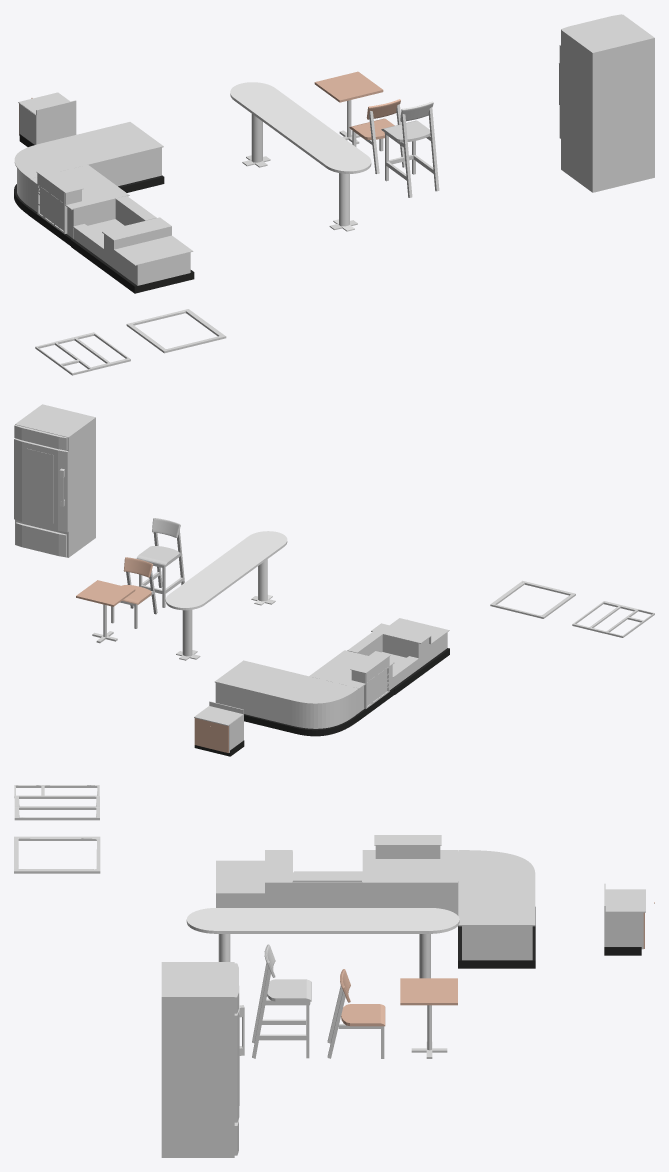
File: muse 1.fbx
3 renders of one model, top to bottom at view 1: azimuth 30°, elevation 25°; view 2: azimuth 150°, elevation 25°; view 3: azimuth 270°, elevation 25°, orthographic. The views are drawn at different scales.
Parts seen in each view (by area): view 1: Cube.013, Cube.032, Cube.016, Cube.021, Cube.015, Cube.052, Cube.022, Cube.043, Cube.053, Cube.007, Cube.019, Cube.005 (+11 smaller); view 2: Cube.013, Cube.032, Cube.016, Cube.015, Cube.018, Cube.022, Cube.019, Cube.007, Cube.028, Cube.021, Cube.037, Cube.005 (+6 smaller); view 3: Cube.013, Cube.032, Cube.016, Cube.022, Cube.015, Cube.021, Cube.049, Cube.019, Cube.053, Cube.007, Cube.043, Cube.037 (+14 smaller).
Part boxes in pixels (x1=…): Cube.013: x1=559, y1=14, x2=654, y2=192; Cube.032: x1=230, y1=82, x2=371, y2=173; Cube.016: x1=43, y1=122, x2=163, y2=167; Cube.021: x1=30, y1=181, x2=115, y2=238; Cube.015: x1=89, y1=147, x2=161, y2=186; Cube.052: x1=116, y1=252, x2=190, y2=285; Cube.022: x1=30, y1=165, x2=129, y2=209; Cube.043: x1=19, y1=103, x2=76, y2=144; Cube.053: x1=114, y1=235, x2=193, y2=265; Cube.007: x1=314, y1=71, x2=383, y2=102; Cube.019: x1=14, y1=143, x2=76, y2=179; Cube.005: x1=384, y1=107, x2=439, y2=197; Cube.013: x1=14, y1=404, x2=95, y2=557; Cube.032: x1=165, y1=531, x2=287, y2=610; Cube.016: x1=214, y1=660, x2=318, y2=700; Cube.015: x1=215, y1=683, x2=291, y2=725; Cube.018: x1=289, y1=692, x2=355, y2=728; Cube.022: x1=309, y1=650, x2=394, y2=688; Cube.019: x1=290, y1=679, x2=358, y2=704; Cube.007: x1=76, y1=580, x2=135, y2=606; Cube.028: x1=382, y1=634, x2=429, y2=668; Cube.021: x1=355, y1=665, x2=392, y2=714; Cube.037: x1=490, y1=580, x2=575, y2=618; Cube.005: x1=139, y1=530, x2=184, y2=607; Cube.013: x1=161, y1=962, x2=244, y2=1157; Cube.032: x1=186, y1=908, x2=459, y2=933; Cube.016: x1=458, y1=875, x2=535, y2=926; Cube.022: x1=362, y1=850, x2=457, y2=883; Cube.015: x1=462, y1=925, x2=532, y2=960; Cube.021: x1=362, y1=851, x2=458, y2=915; Cube.049: x1=293, y1=876, x2=362, y2=907; Cube.019: x1=458, y1=850, x2=535, y2=876; Cube.053: x1=216, y1=860, x2=264, y2=893; Cube.007: x1=400, y1=978, x2=457, y2=1005; Cube.043: x1=604, y1=912, x2=643, y2=949; Cube.037: x1=14, y1=836, x2=100, y2=873.
Bounding box in the file's own units: 1972 × 443 × 1471.
